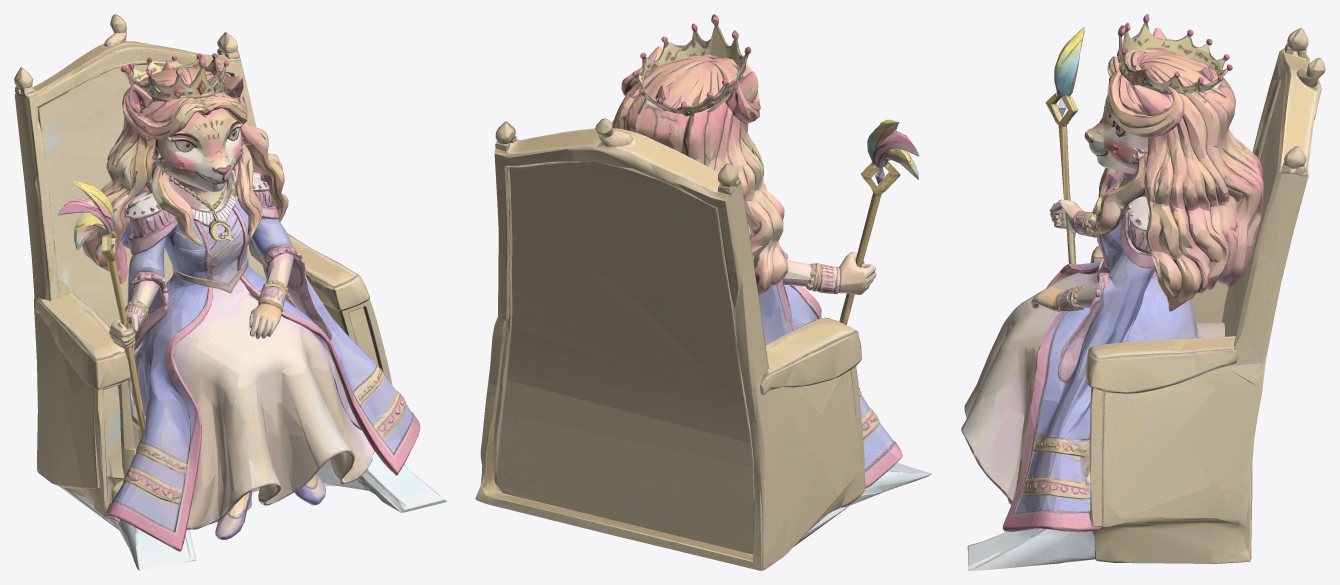
3 renders of one model, left to right at view 1: azimuth 30°, elevation 25°; view 2: azimuth 150°, elevation 25°; view 3: azimuth 270°, elevation 25°, orthographic. The views are drawn at different scales.
Bounding box in the file's own units: 1.6 × 1.9 × 1.37.
1 material, 1 textured.
